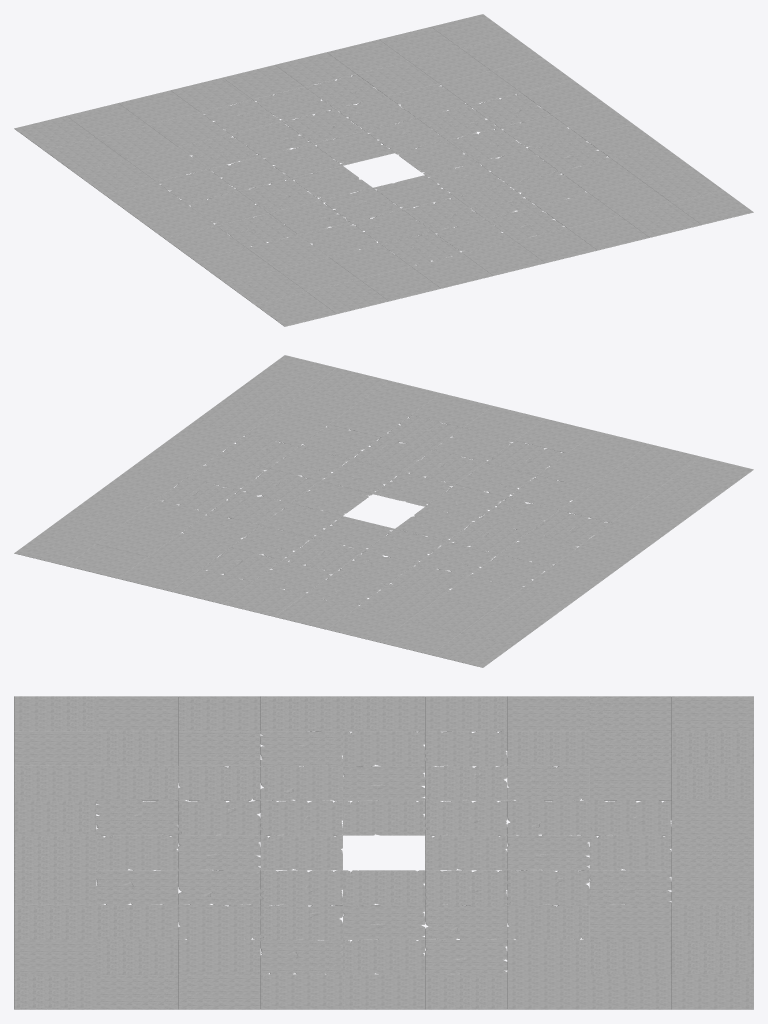
Rendered from Ground_panels.glb.
The picture shows the model from 3 angles, top to bottom: view 1: azimuth 30°, elevation 25°; view 2: azimuth 150°, elevation 25°; view 3: azimuth 270°, elevation 25°; orthographic projection. The views are drawn at different scales.
Visible parts, largest first — view 1: Ground panels; view 2: Ground panels; view 3: Ground panels.
Part boxes in pixels (x1=…): Ground panels: x1=14, y1=14, x2=753, y2=326; Ground panels: x1=14, y1=355, x2=753, y2=667; Ground panels: x1=14, y1=696, x2=753, y2=1009.
Size of the model in its own units: 720 by 0.498 by 720.
1 material, 1 textured.
